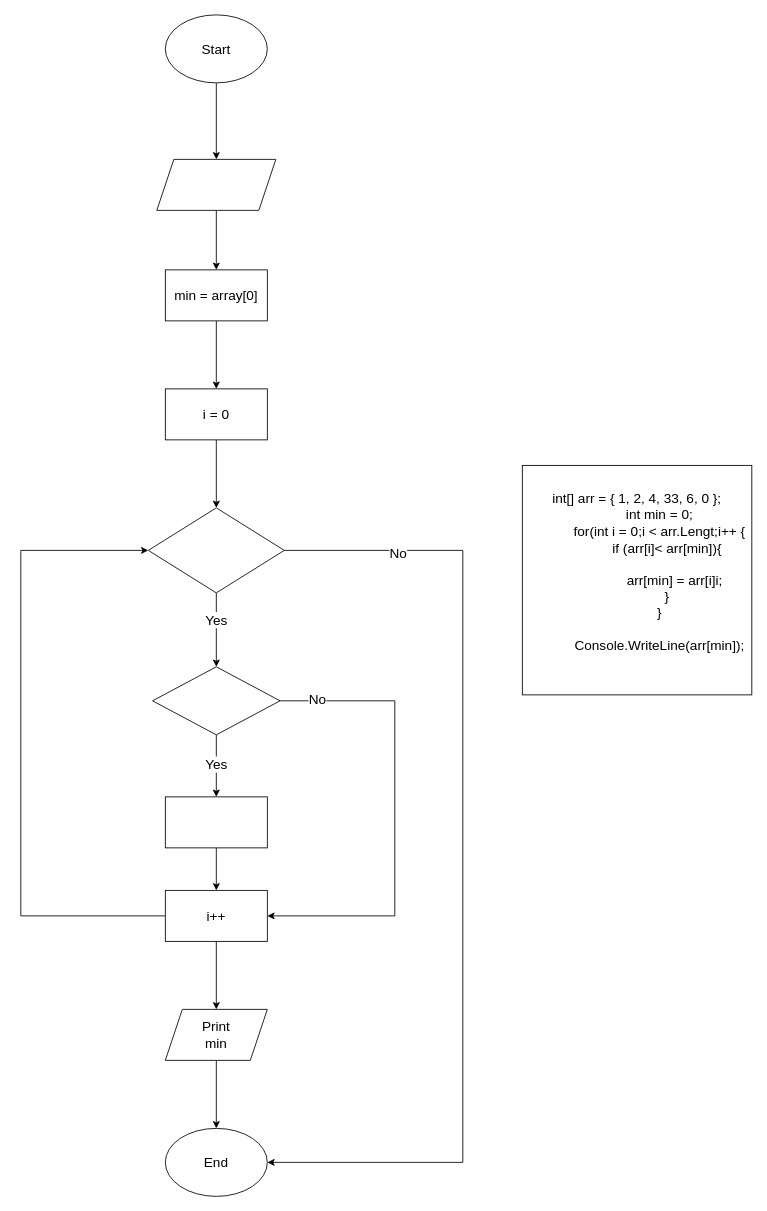
This 767x1211 diagram has some shape labels left out. The shapes that lost their labels are listed below. From the top down, each one's centre as x and y in pixels, then its label:
At (x=216, y=184): "Input: Array = []".
At (x=215, y=550): "is i < array.length?".
At (x=216, y=700): "is array[i] < min?".
At (x=215, y=822): "min = i".
